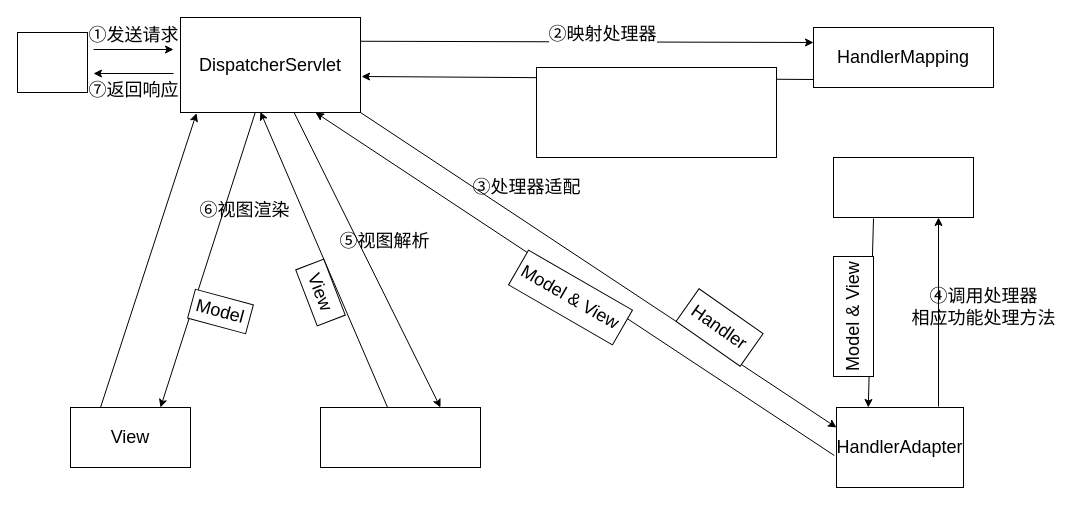
This 1073x505 diagram has some shape labels left out. The shapes that lost their labels are listed below. From the top down, each one's box as (x1, y1, x2, y2) in pixels, then its label:
(16, 32, 88, 92): 浏览器
(536, 66, 776, 158): HandlerExecutionChain HandlerInterceptor HandlerInterceptor Handler
(832, 156, 974, 218): Handler （如UserController）
(320, 406, 480, 468): ViewResolver
